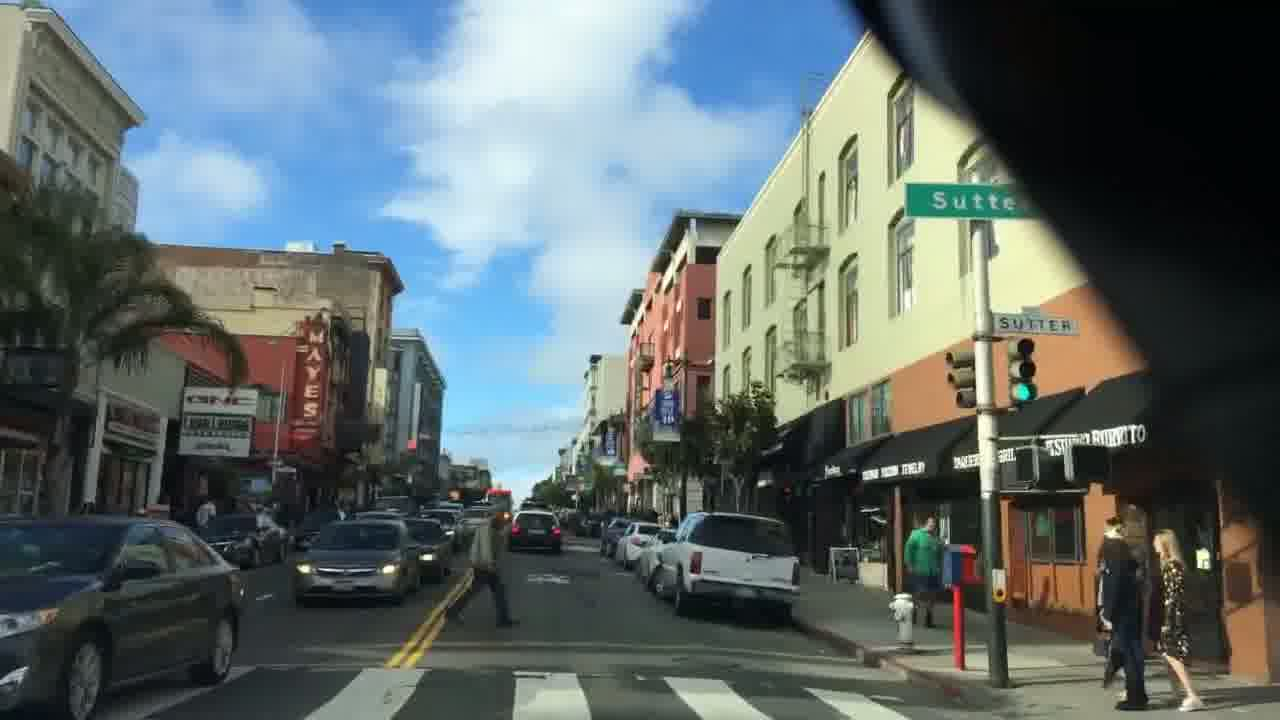car: (0, 512, 248, 720), (648, 511, 801, 621), (289, 516, 422, 605), (194, 510, 289, 568), (397, 515, 455, 583), (613, 521, 671, 571), (632, 525, 677, 585), (508, 506, 561, 553)
pedestrian: (1150, 526, 1209, 714), (1094, 515, 1149, 711), (443, 509, 522, 630), (902, 514, 945, 630)
